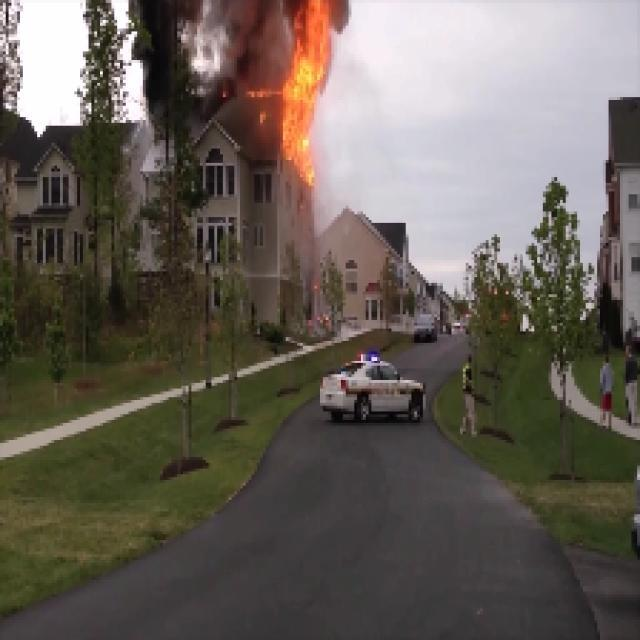Fire: (282, 0, 333, 171)
Smoke: (141, 2, 271, 92)
